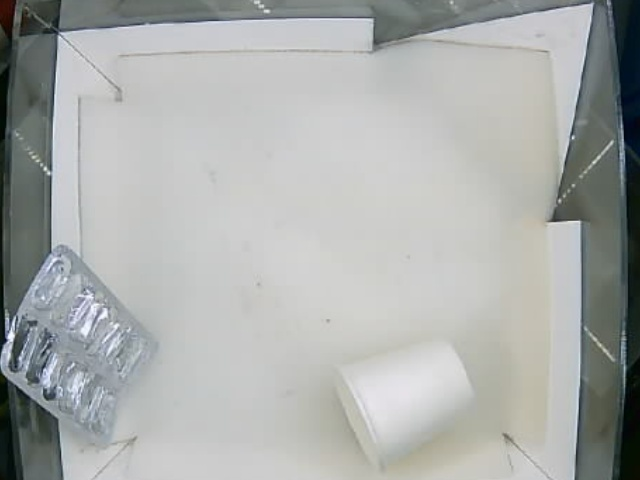Battery: (2, 243, 160, 447)
Cup: (338, 337, 476, 468)
